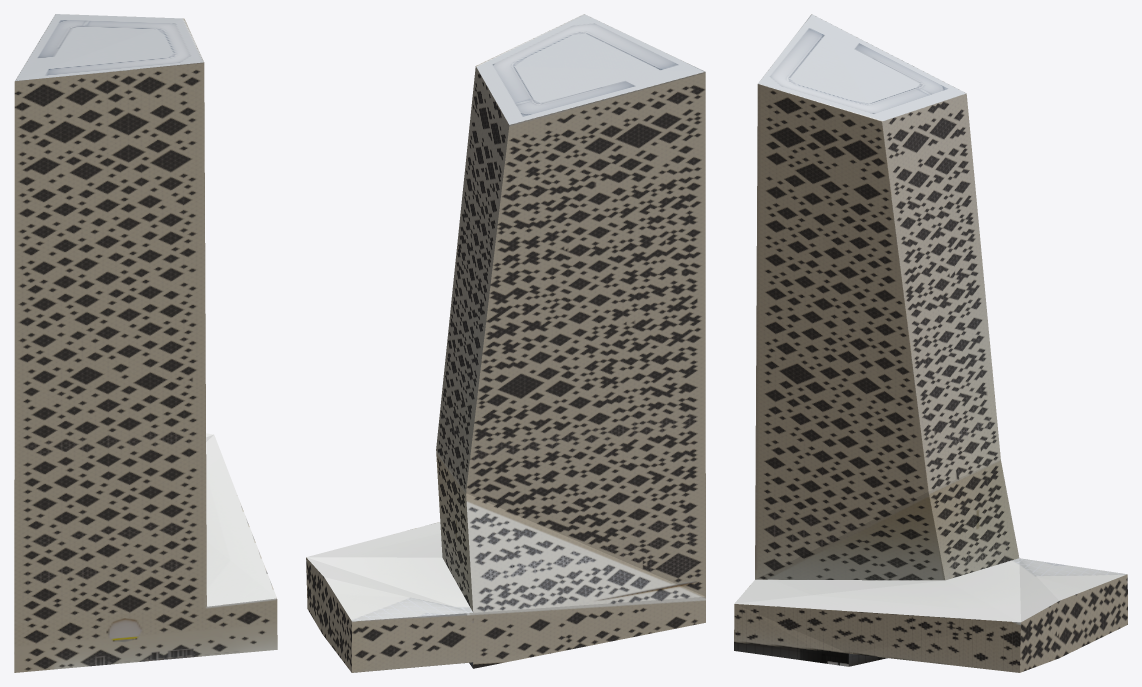
The picture shows the model from 3 angles, left to right: view 1: azimuth 30°, elevation 25°; view 2: azimuth 150°, elevation 25°; view 3: azimuth 270°, elevation 25°; orthographic projection. The views are drawn at different scales.
Parts seen in each view (by area): view 1: 110A.001; view 2: 110A.001; view 3: 110A.001.
Part boxes in pixels (left/top/right/bottom): 110A.001: left=14, top=14, right=277, bottom=672; 110A.001: left=306, top=14, right=705, bottom=672; 110A.001: left=734, top=14, right=1127, bottom=672.
Bounding box in the file's own units: 76.44 × 138 × 90.89.
Materials: 1 (1 with a texture image).
